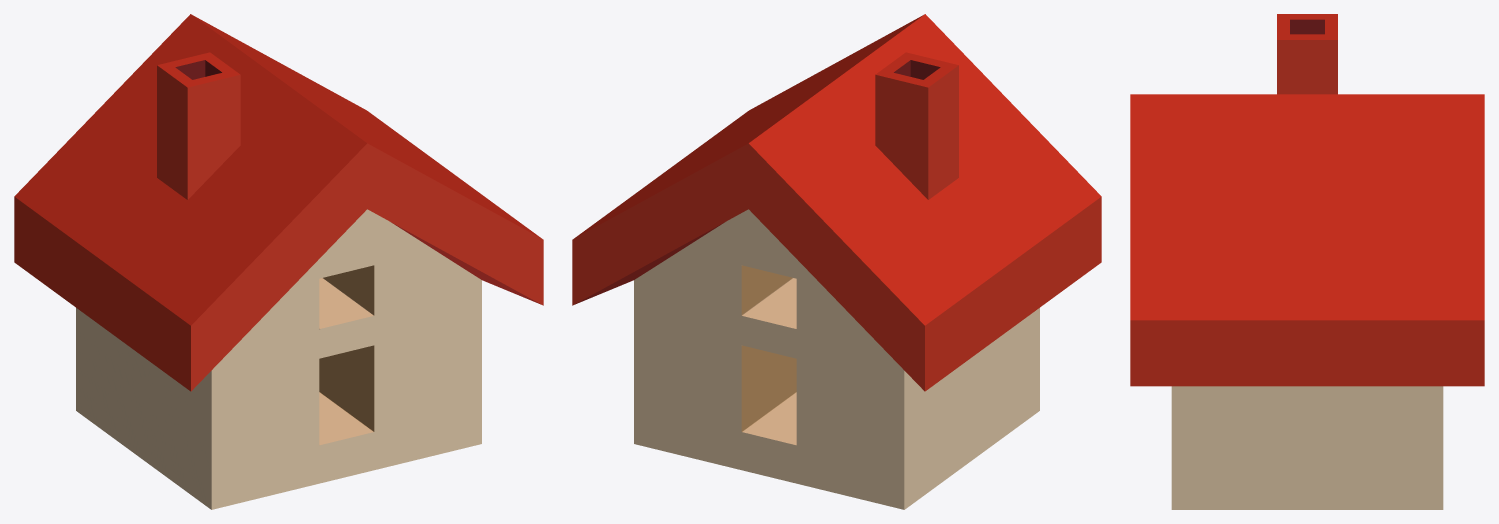
File: House.fbx
The picture shows the model from 3 angles, left to right: view 1: azimuth 30°, elevation 25°; view 2: azimuth 150°, elevation 25°; view 3: azimuth 270°, elevation 25°; orthographic projection.
Visible parts, largest first — view 1: House; view 2: House; view 3: House.
Part boxes in pixels (x1,y1,x2,y2): House: (14, 14, 543, 509); House: (572, 14, 1101, 509); House: (1130, 14, 1484, 509).
Size of the model in its own units: 267 by 272 by 231.
